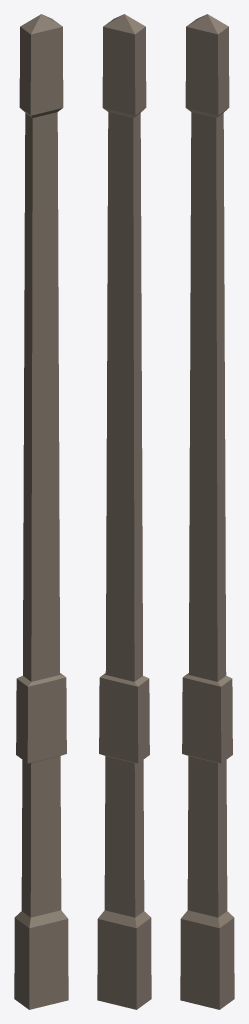
Rendered from SM_Wep_Rapier_01_Sheath.glb.
3 renders of one model, left to right at view 1: azimuth 30°, elevation 25°; view 2: azimuth 150°, elevation 25°; view 3: azimuth 330°, elevation 25°, orthographic.
Parts seen in each view (by area): view 1: SM_Wep_Rapier_01_Sheath_00; view 2: SM_Wep_Rapier_01_Sheath_00; view 3: SM_Wep_Rapier_01_Sheath_00.
Boxes of the visible parts, x1,y1,x2,y2 form: SM_Wep_Rapier_01_Sheath_00: (14,14,68,1009); SM_Wep_Rapier_01_Sheath_00: (97,14,151,1009); SM_Wep_Rapier_01_Sheath_00: (180,14,234,1009).
Size of the model in its own units: 0.048 by 1.15 by 0.0314.
1 material, 1 textured.
